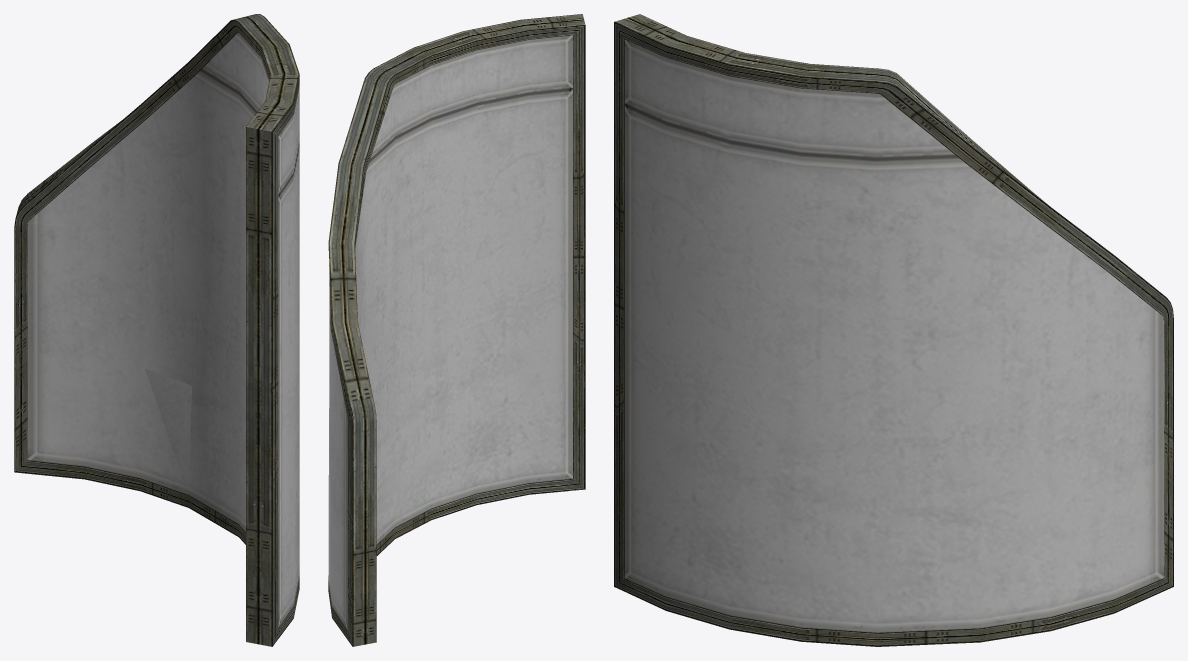
Rendered from Club_StripMid_01.FBX.
The picture shows the model from 3 angles, left to right: view 1: azimuth 30°, elevation 25°; view 2: azimuth 150°, elevation 25°; view 3: azimuth 270°, elevation 25°; orthographic projection. The views are drawn at different scales.
Visible parts, largest first — view 1: Club_StripMid_01; view 2: Club_StripMid_01; view 3: Club_StripMid_01.
Boxes of the visible parts, x1,y1,x2,y2 form: Club_StripMid_01: (14, 14, 299, 646); Club_StripMid_01: (328, 14, 585, 646); Club_StripMid_01: (614, 14, 1173, 646).
Size of the model in its own units: 0.5186 by 2 by 1.8.
